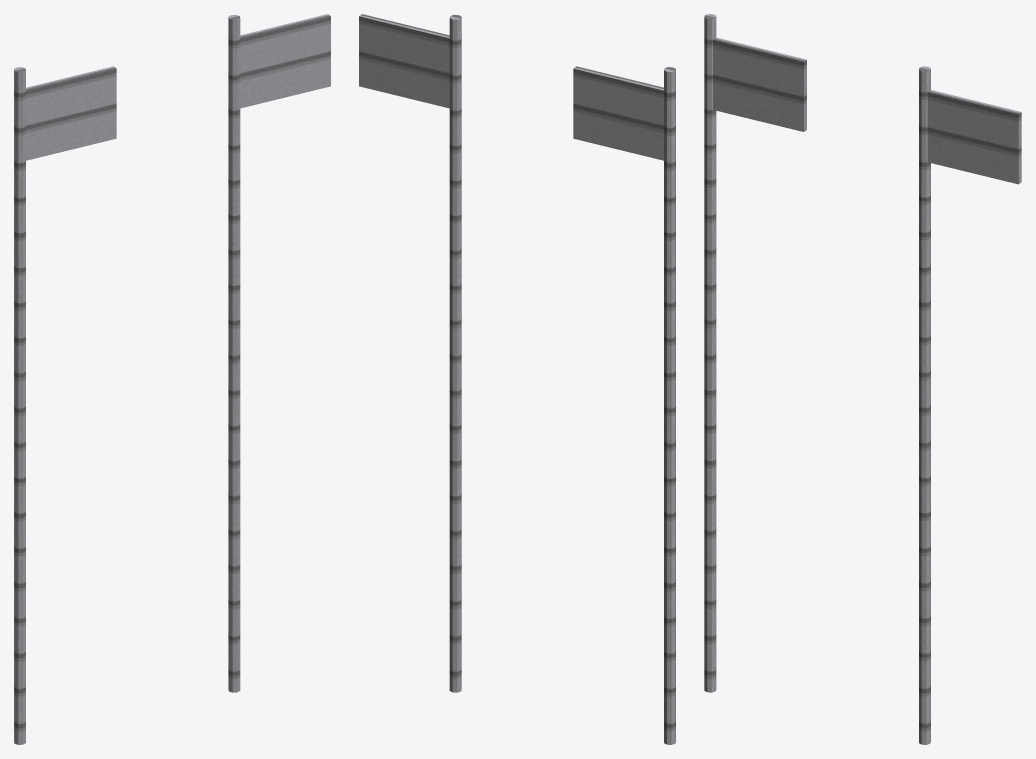
File: flag_set_indoor.glb
The picture shows the model from 3 angles, left to right: view 1: azimuth 30°, elevation 25°; view 2: azimuth 150°, elevation 25°; view 3: azimuth 330°, elevation 25°; orthographic projection.
Visible parts, largest first — view 1: flag_set_indoor-col; view 2: flag_set_indoor-col; view 3: flag_set_indoor-col.
Boxes of the visible parts, x1=… form: flag_set_indoor-col: x1=14, y1=14, x2=330, y2=744; flag_set_indoor-col: x1=359, y1=14, x2=675, y2=744; flag_set_indoor-col: x1=704, y1=14, x2=1021, y2=744.
Bounding box in the file's own units: 1.17 × 2.4 × 0.04.
Materials: 1 (1 with a texture image).
